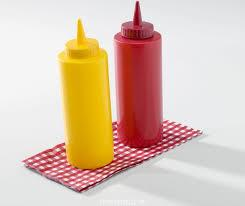LDPE: (57, 17, 114, 167), (114, 0, 162, 146)
